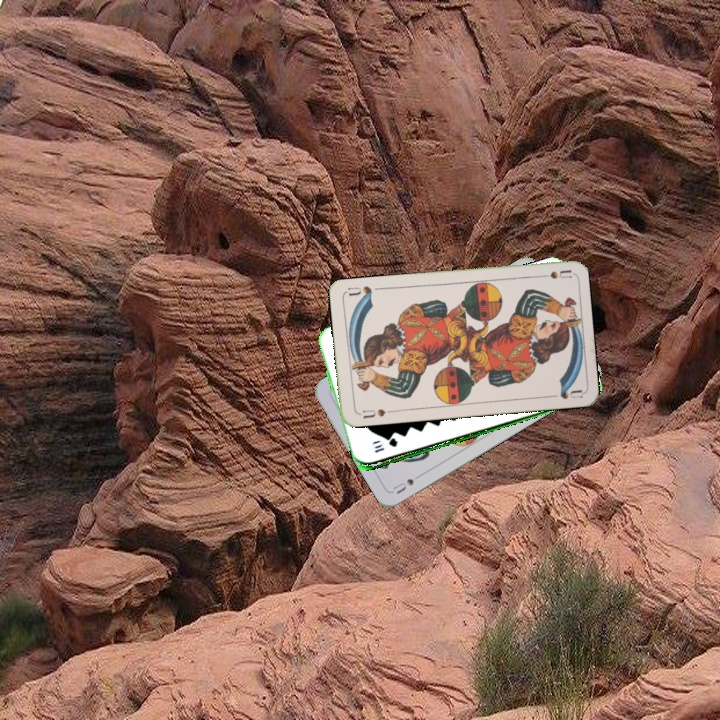G10: (370, 436, 400, 455)
SU: (354, 405, 395, 421), (389, 474, 417, 497), (532, 266, 572, 281)
